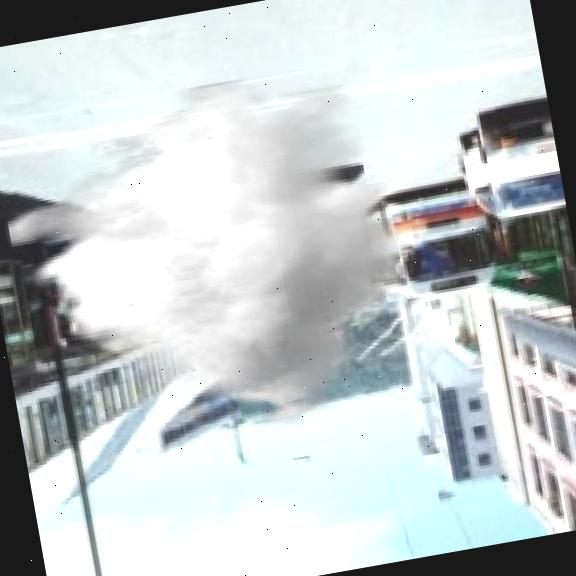smoke: (0, 54, 438, 474)
